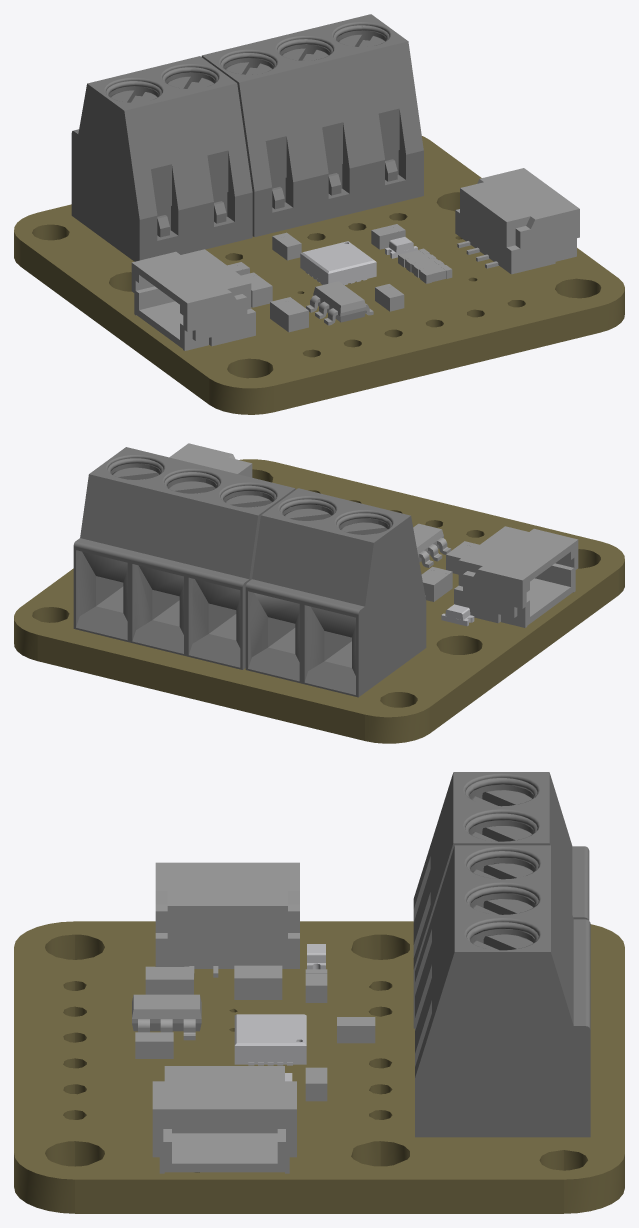
The model's file is ada-5766.glb.
The picture shows the model from 3 angles, top to bottom: view 1: azimuth 30°, elevation 25°; view 2: azimuth 150°, elevation 25°; view 3: azimuth 270°, elevation 25°; orthographic projection. The views are drawn at different scales.
Parts seen in each view (by area): view 1: 0.25_0.25_0.25_0, 0.16666666666666666_0.16666666666666666_0.08333333333333333_, 0.3333333333333333_0.3333333333333333_0.3333333333333333_0, 0.5833333333333334_0.5833333333333334_0.5833333333333334_0.8; view 2: 0.25_0.25_0.25_0, 0.16666666666666666_0.16666666666666666_0.08333333333333333_, 0.3333333333333333_0.3333333333333333_0.3333333333333333_0, 0.5833333333333334_0.5833333333333334_0.5833333333333334_0.8; view 3: 0.16666666666666666_0.16666666666666666_0.08333333333333333_, 0.25_0.25_0.25_0, 0.3333333333333333_0.3333333333333333_0.3333333333333333_0, 0.5833333333333334_0.5833333333333334_0.5833333333333334_0.8.
Part boxes in pixels (x1,y1,x2,y2): 0.25_0.25_0.25_0: [71, 14, 423, 261]; 0.16666666666666666_0.16666666666666666_0.08333333333333333_: [14, 136, 624, 414]; 0.3333333333333333_0.3333333333333333_0.3333333333333333_0: [131, 168, 579, 350]; 0.5833333333333334_0.5833333333333334_0.5833333333333334_0.8: [300, 237, 417, 285]; 0.25_0.25_0.25_0: [73, 447, 426, 697]; 0.16666666666666666_0.16666666666666666_0.08333333333333333_: [14, 459, 624, 743]; 0.3333333333333333_0.3333333333333333_0.3333333333333333_0: [169, 443, 578, 627]; 0.5833333333333334_0.5833333333333334_0.5833333333333334_0.8: [441, 604, 474, 626]; 0.16666666666666666_0.16666666666666666_0.08333333333333333_: [14, 921, 624, 1213]; 0.25_0.25_0.25_0: [413, 772, 590, 1137]; 0.3333333333333333_0.3333333333333333_0.3333333333333333_0: [132, 862, 375, 1173]; 0.5833333333333334_0.5833333333333334_0.5833333333333334_0.8: [234, 944, 325, 1081].
Bounding box in the file's own units: 2.54 × 1.21 × 2.54.
